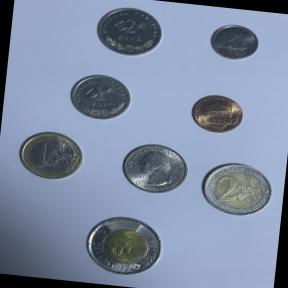coin: (79, 211, 170, 282), (197, 158, 278, 222), (116, 138, 194, 199), (92, 1, 168, 62), (14, 126, 89, 186), (186, 88, 251, 140), (206, 20, 264, 64)
